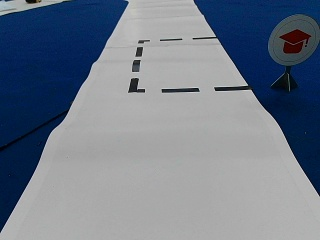school: (268, 14, 318, 65)
